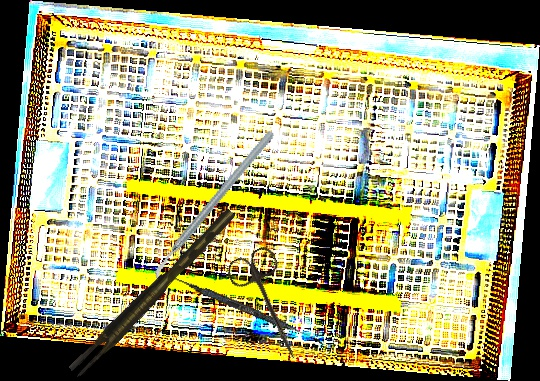Chopper: (115, 128, 312, 288)
Iris Scissors: (223, 243, 319, 369)
Spatula Surgical: (167, 273, 327, 346)
Tissue Forceps: (63, 208, 244, 379)
